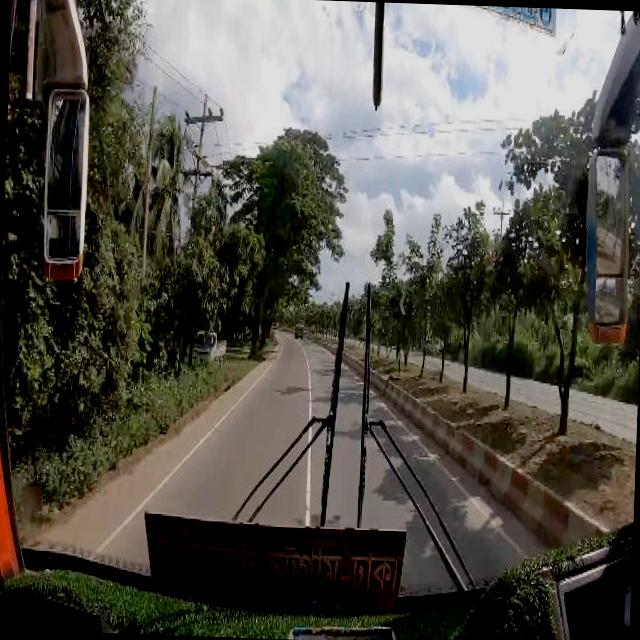truck: (192, 328, 225, 363)
